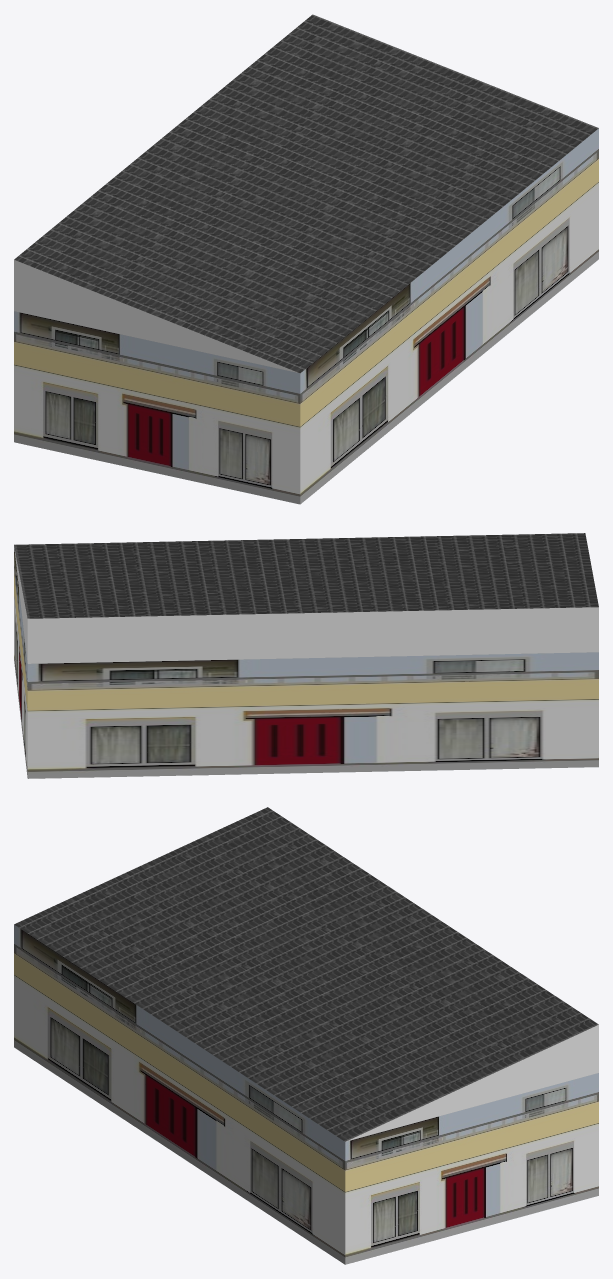
The picture shows the model from 3 angles, top to bottom: view 1: azimuth 30°, elevation 25°; view 2: azimuth 150°, elevation 25°; view 3: azimuth 270°, elevation 25°; orthographic projection. The views are drawn at different scales.
Parts seen in each view (by area): view 1: CityEngineMaterial_16_m, CityEngineMaterial_15_m, CityEngineMaterial_3_m; view 2: CityEngineMaterial_15_m, CityEngineMaterial_16_m, CityEngineMaterial_3_m; view 3: CityEngineMaterial_16_m, CityEngineMaterial_15_m, CityEngineMaterial_3_m.
Part boxes in pixels (x1,y1,x2,y2): CityEngineMaterial_16_m: (14,14,598,373); CityEngineMaterial_15_m: (14,128,598,504); CityEngineMaterial_3_m: (14,260,299,373); CityEngineMaterial_15_m: (14,546,598,778); CityEngineMaterial_16_m: (14,533,598,618); CityEngineMaterial_3_m: (14,548,598,663); CityEngineMaterial_16_m: (14,807,598,1141); CityEngineMaterial_15_m: (14,924,598,1264); CityEngineMaterial_3_m: (346,1025,598,1141).
Bounding box in the file's own units: 41.72 × 11.62 × 36.
